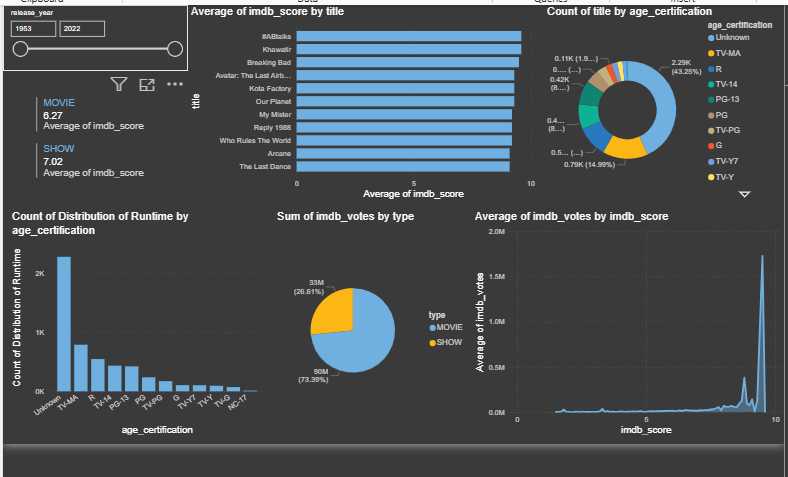

The dashboard page shown, as its layout file describes it:
{"tool":"powerbi","page":{"name":"Page 1","canvas":[1280,720],"ordinal":0},"visuals":[{"type":"pieChart","fields":{"Y":["Sum(Netflix TV Shows and Movies.imdb_votes)"],"Category":["Netflix TV Shows and Movies.type"]},"box":[444.1,336,324.5,373.7],"z":0},{"type":"donutChart","fields":{"Y":["CountNonNull(Netflix TV Shows and Movies.title)"],"Category":["Netflix TV Shows and Movies.age_certification"]},"box":[886.7,0,393.3,322.9],"z":1000},{"type":"stackedAreaChart","fields":{"Y":["Avg(Netflix TV Shows and Movies.imdb_votes)"],"Category":["Netflix TV Shows and Movies.imdb_score"]},"box":[768.3,336.6,512.2,373.2],"z":1001},{"type":"clusteredColumnChart","fields":{"Category":["Netflix TV Shows and Movies.age_certification"],"Y":["CountNonNull(Netflix TV Shows and Movies.Distribution of Runtime)"]},"box":[10.2,336.6,422.9,373.2],"z":1002},{"type":"multiRowCard","fields":{"Values":["Netflix TV Shows and Movies.type","Avg(Netflix TV Shows and Movies.imdb_score)"]},"box":[49.8,146.3,203.4,163.9],"z":1003},{"type":"clusteredBarChart","fields":{"Category":["Netflix TV Shows and Movies.title"],"Y":["Avg(Netflix TV Shows and Movies.imdb_score)"]},"box":[303.2,0,573.6,322.9],"z":1004},{"type":"slicer","fields":{"Values":["Netflix TV Shows and Movies.release_year"]},"box":[0,0,302.9,108.3],"z":1005}]}

Visuals, with their boxes in screenshot pixels (x1, y1, x2, y2):
pieChart - Sum(Netflix TV Shows and Movies.imdb_votes) x Netflix TV Shows and Movies.type: box(275, 214, 480, 449)
donutChart - CountNonNull(Netflix TV Shows and Movies.title) x Netflix TV Shows and Movies.age_certification: box(554, 2, 787, 205)
stackedAreaChart - Avg(Netflix TV Shows and Movies.imdb_votes) x Netflix TV Shows and Movies.imdb_score: box(479, 214, 787, 449)
clusteredColumnChart - Netflix TV Shows and Movies.age_certification x CountNonNull(Netflix TV Shows and Movies.Distribution of Runtime): box(2, 214, 269, 449)
multiRowCard - Netflix TV Shows and Movies.type x Avg(Netflix TV Shows and Movies.imdb_score): box(27, 94, 155, 197)
clusteredBarChart - Netflix TV Shows and Movies.title x Avg(Netflix TV Shows and Movies.imdb_score): box(187, 2, 548, 205)
slicer - Netflix TV Shows and Movies.release_year: box(0, 2, 187, 70)
